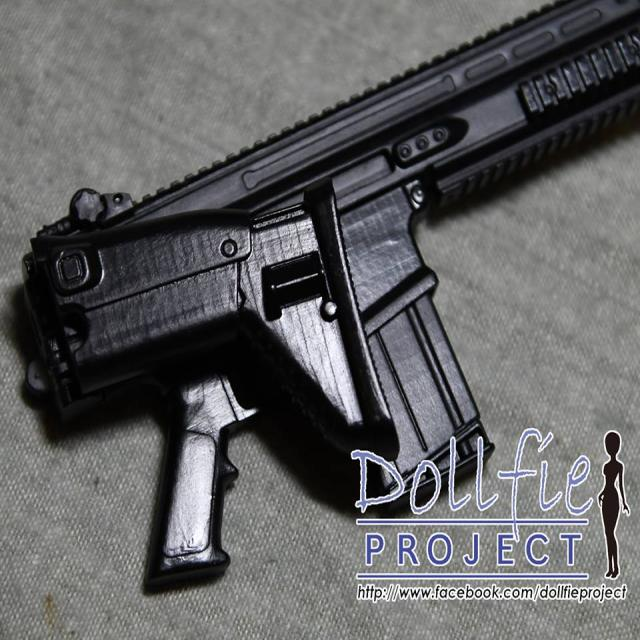Gun: (22, 22, 640, 615)
